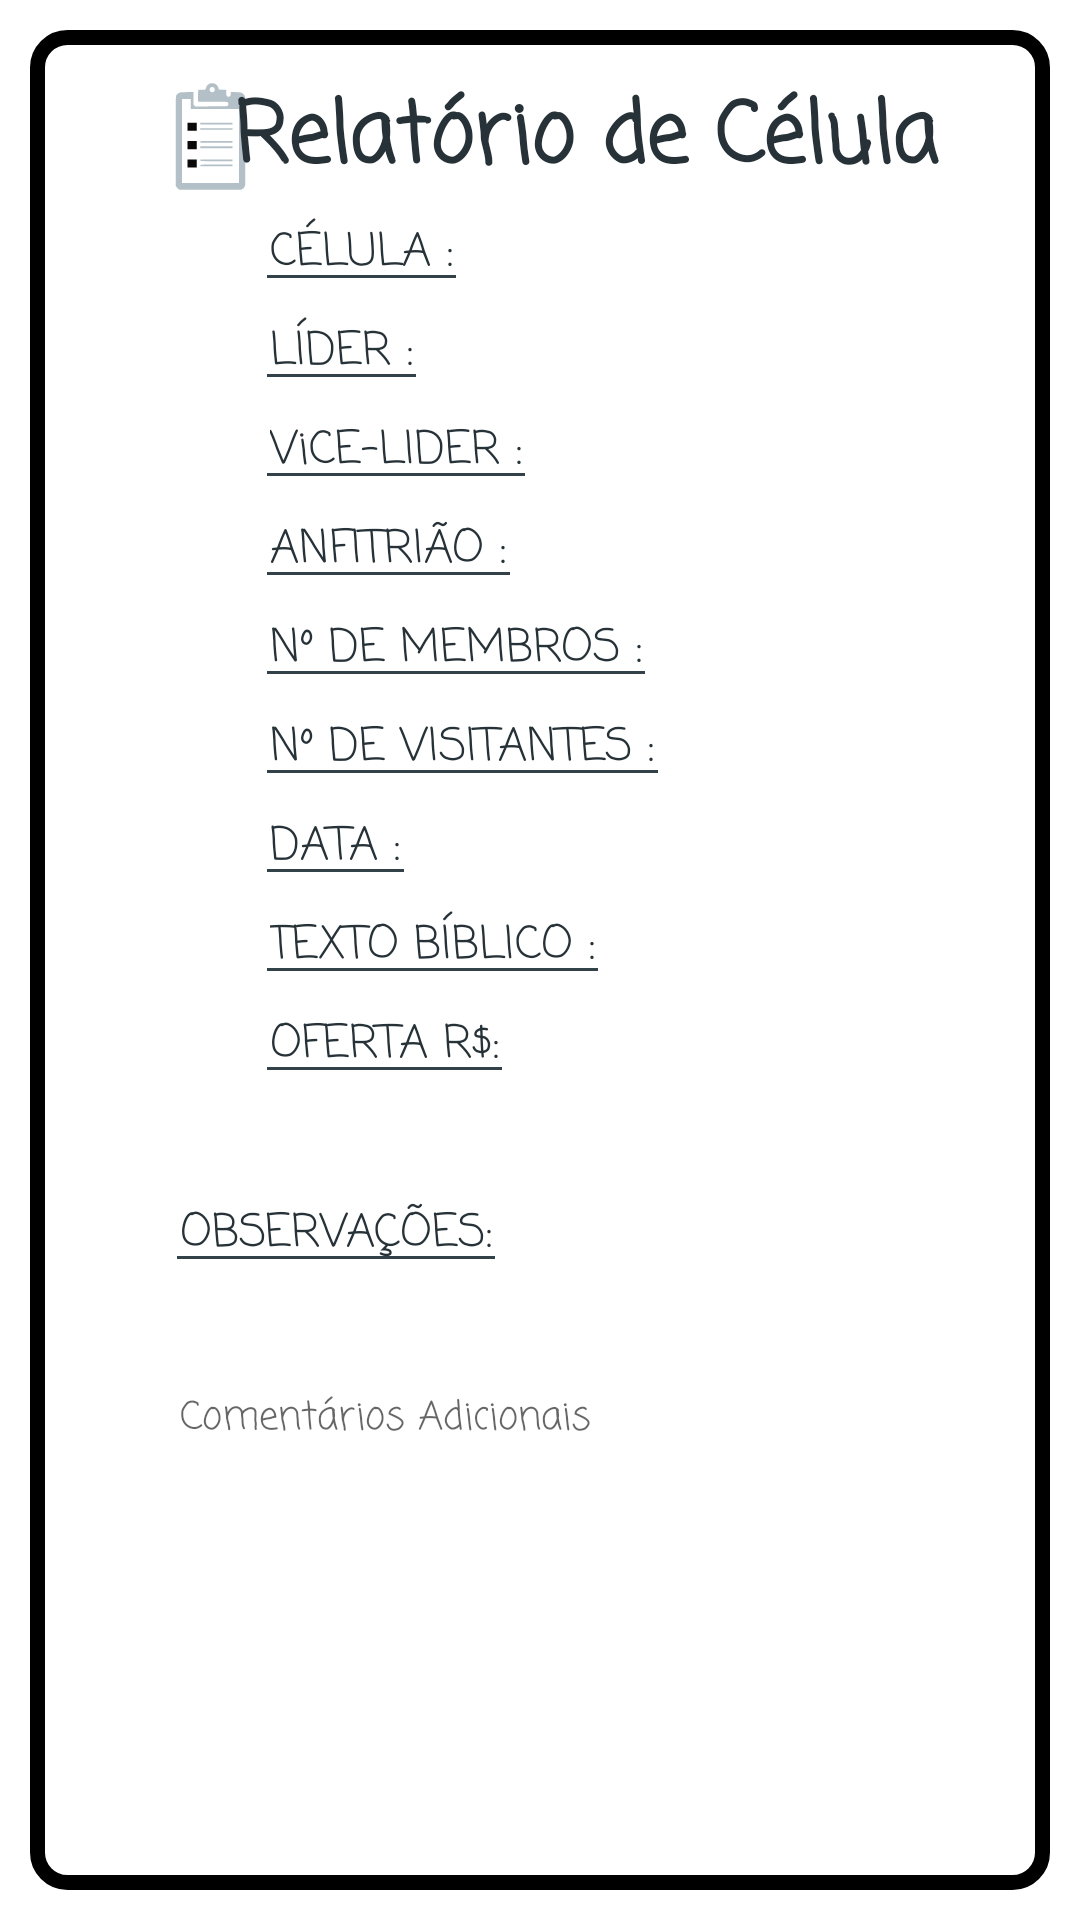

Screen size 1080×1920. Icon name, then its box in pixels as bbox(x1, y1, x2, y2):
report icon: bbox(176, 83, 285, 190)
